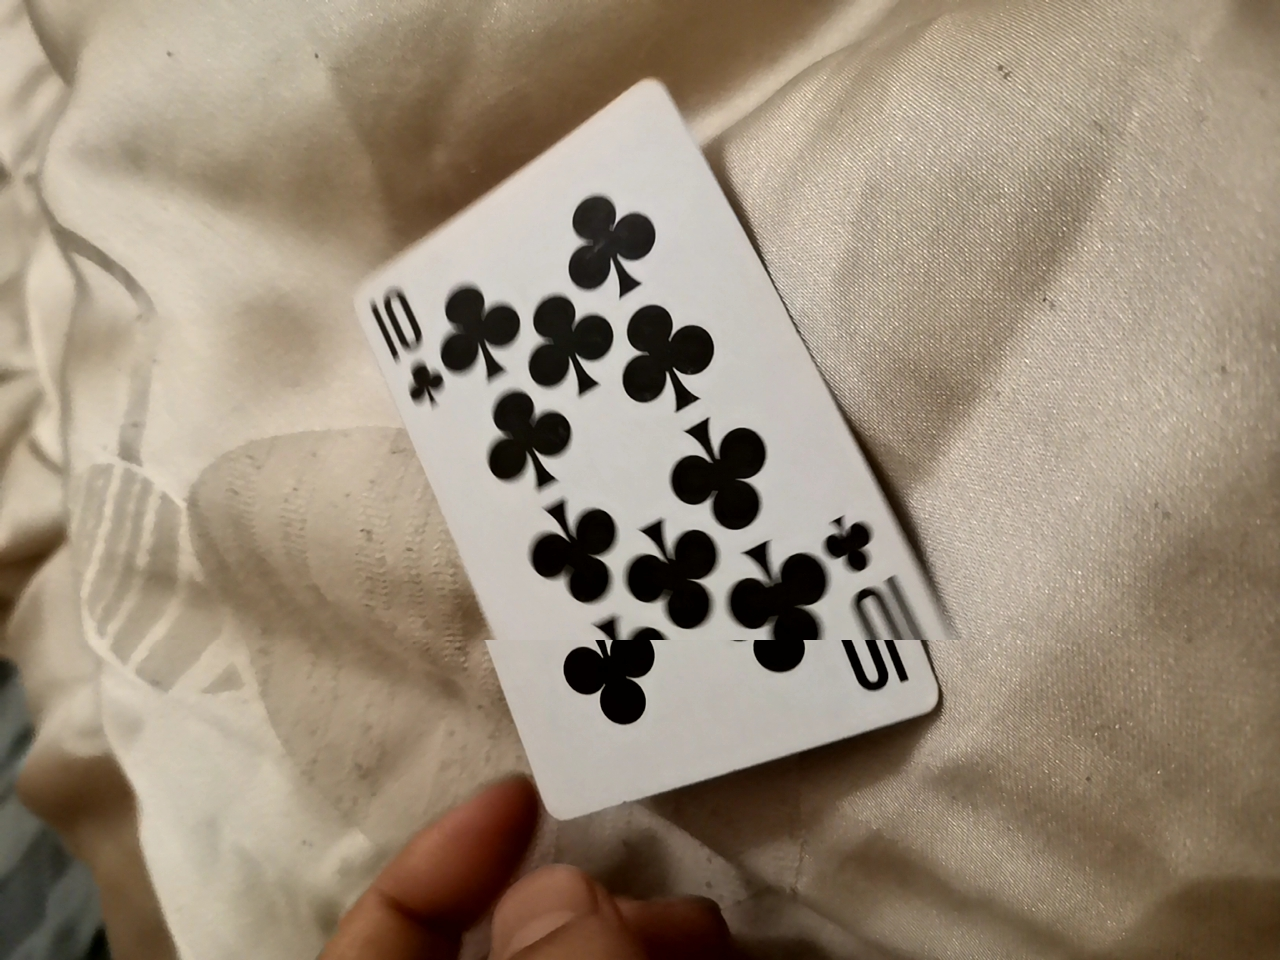mh 10: (374, 55, 935, 862)
